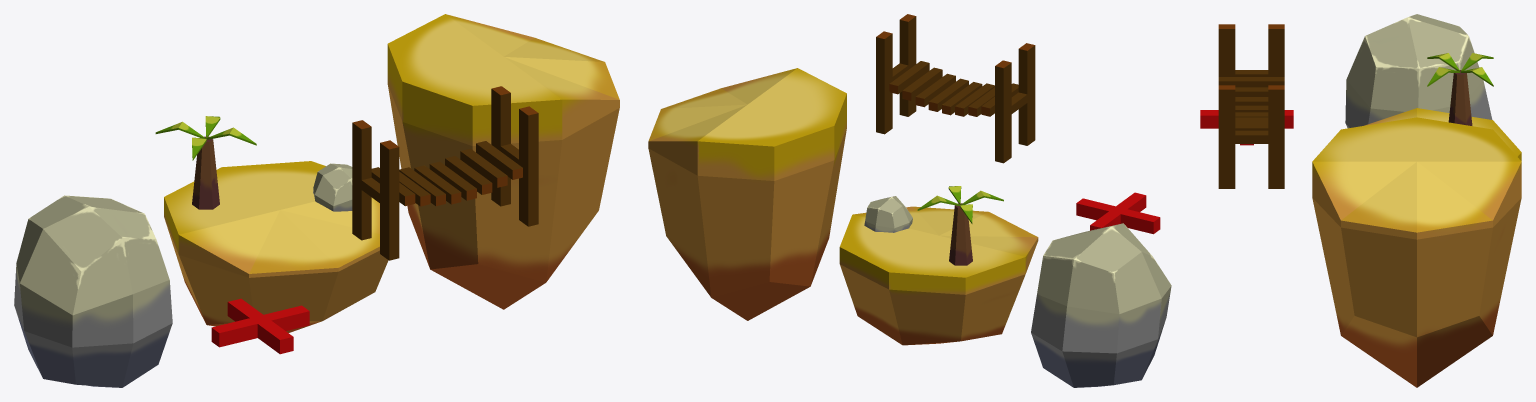
The model's file is assets_world_map.glb.
3 views of the same model, side by side, from view 1: azimuth 30°, elevation 25°; view 2: azimuth 150°, elevation 25°; view 3: azimuth 270°, elevation 25° (orthographic). The views are drawn at different scales.
Visible parts, largest first — view 1: Hill, base_island, rock, bridge, X, Palm, rock.001; view 2: Hill, base_island, rock, bridge, X, Palm, rock.001; view 3: Hill, rock, bridge, Palm, base_island, X.
Boxes of the visible parts, x1,y1,x2,y2 form: Hill: [387, 14, 619, 309]; base_island: [164, 161, 388, 332]; rock: [14, 195, 172, 387]; bridge: [352, 86, 538, 260]; X: [211, 298, 309, 354]; Palm: [155, 116, 256, 209]; rock.001: [313, 163, 352, 211]; Hill: [648, 68, 846, 320]; base_island: [839, 206, 1038, 345]; rock: [1031, 223, 1171, 387]; bridge: [876, 14, 1035, 163]; X: [1076, 192, 1160, 234]; Palm: [917, 186, 1003, 265]; rock.001: [864, 196, 912, 232]; Hill: [1312, 117, 1521, 387]; rock: [1345, 14, 1492, 128]; bridge: [1218, 24, 1284, 188]; Palm: [1427, 53, 1493, 125]; base_island: [1365, 108, 1521, 160]; X: [1200, 110, 1293, 145].
Size of the model in its own units: 4.85 by 2.35 by 2.58.
5 materials, 5 textured.
